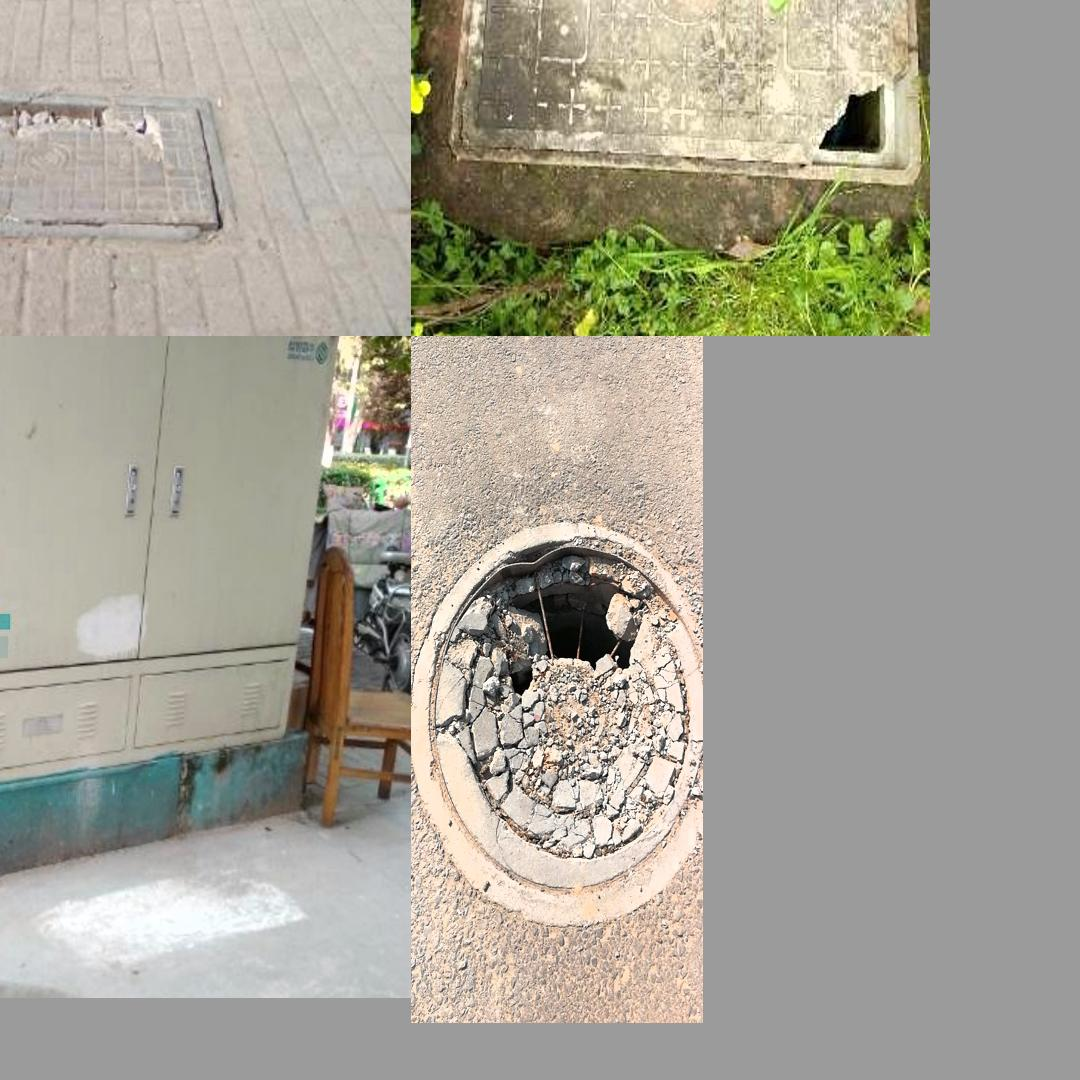broke: (411, 524, 702, 925), (456, 0, 910, 158), (0, 86, 240, 244)
